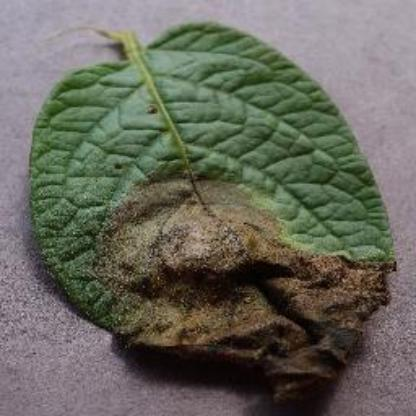Late-Blight: (20, 12, 398, 402)
